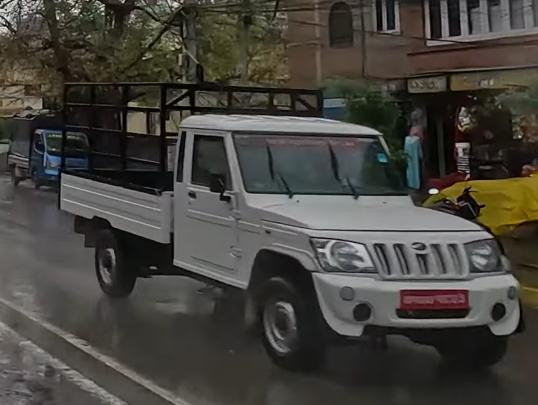mini_truck: (3, 108, 98, 200)
transport_vehicle: (56, 76, 530, 379)
